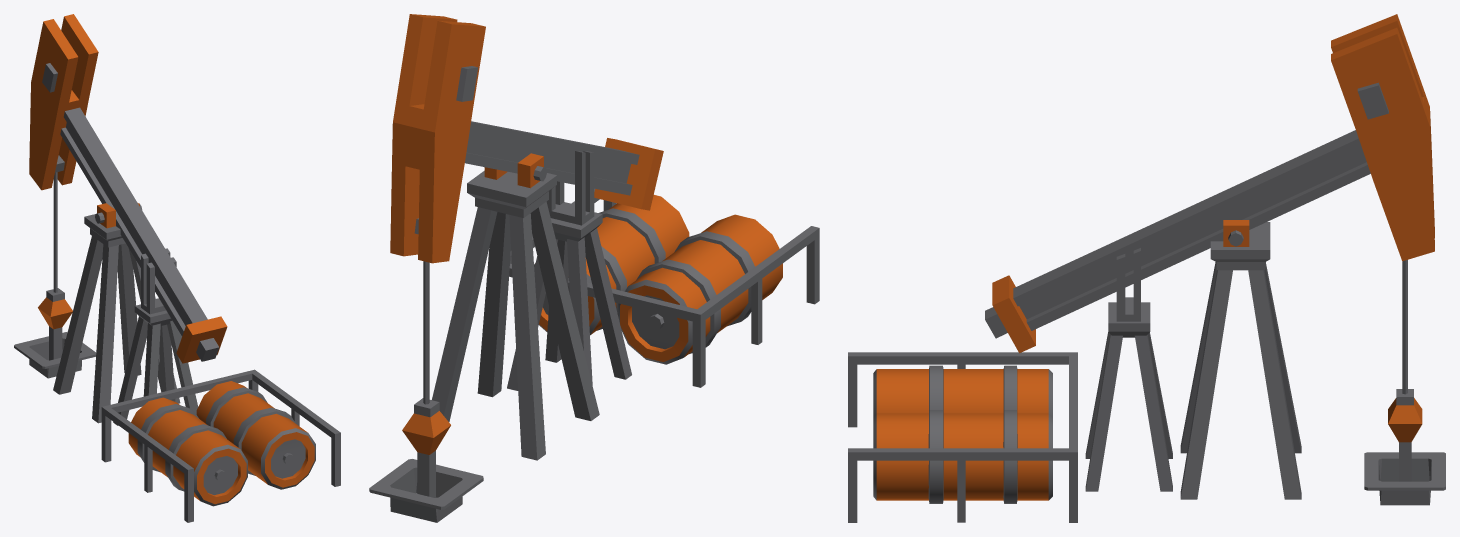
The model's file is OilPump.fbx.
The picture shows the model from 3 angles, left to right: view 1: azimuth 30°, elevation 25°; view 2: azimuth 150°, elevation 25°; view 3: azimuth 270°, elevation 25°; orthographic projection. The views are drawn at different scales.
Visible parts, largest first — view 1: OilPump, OilPump_hammer, OilPump_pipe; view 2: OilPump, OilPump_hammer, OilPump_pipe; view 3: OilPump, OilPump_hammer, OilPump_pipe.
Part boxes in pixels (left/top/right/bottom): OilPump: left=14, top=203, right=340, bottom=522; OilPump_hammer: left=29, top=14, right=227, bottom=363; OilPump_pipe: left=53, top=172, right=57, bottom=292; OilPump: left=369, top=151, right=819, bottom=522; OilPump_hammer: left=390, top=14, right=663, bottom=263; OilPump_pipe: left=423, top=261, right=429, bottom=404; OilPump: left=848, top=220, right=1445, bottom=522; OilPump_hammer: left=985, top=14, right=1434, bottom=353; OilPump_pipe: left=1402, top=260, right=1407, bottom=394.
Size of the model in its own units: 117 by 258 by 298.
